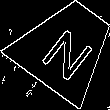N_NE: (34, 14, 98, 79)
